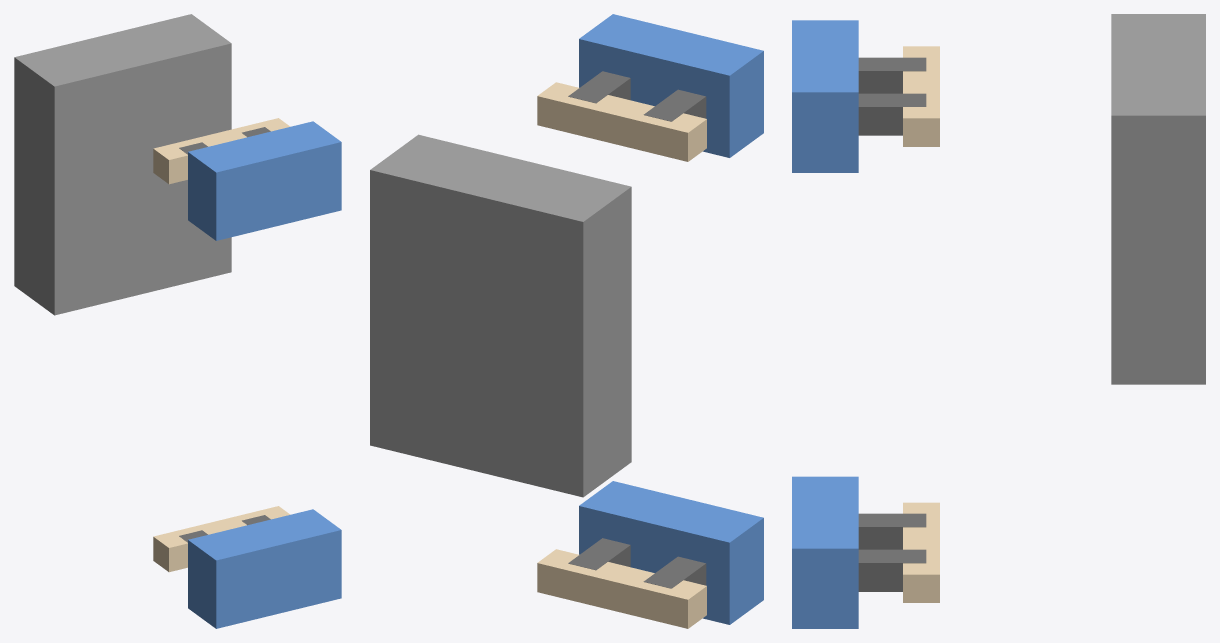
Rendered from sky130_fd_sc_hd__fill_2.gds.gltf.
3 renders of one model, left to right at view 1: azimuth 30°, elevation 25°; view 2: azimuth 150°, elevation 25°; view 3: azimuth 270°, elevation 25°, orthographic. The views are drawn at different scales.
Parts seen in each view (by area): view 1: sky130_fd_sc_hd__fill_2_nwell, sky130_fd_sc_hd__fill_2_met1, sky130_fd_sc_hd__fill_2_li1, sky130_fd_sc_hd__fill_2_mcon; view 2: sky130_fd_sc_hd__fill_2_nwell, sky130_fd_sc_hd__fill_2_met1, sky130_fd_sc_hd__fill_2_li1, sky130_fd_sc_hd__fill_2_mcon; view 3: sky130_fd_sc_hd__fill_2_nwell, sky130_fd_sc_hd__fill_2_met1, sky130_fd_sc_hd__fill_2_mcon, sky130_fd_sc_hd__fill_2_li1.
Boxes of the visible parts, bbox=[...] form: sky130_fd_sc_hd__fill_2_nwell: bbox=[14, 14, 231, 315]; sky130_fd_sc_hd__fill_2_met1: bbox=[188, 121, 341, 628]; sky130_fd_sc_hd__fill_2_li1: bbox=[153, 118, 290, 572]; sky130_fd_sc_hd__fill_2_mcon: bbox=[179, 127, 270, 542]; sky130_fd_sc_hd__fill_2_nwell: bbox=[370, 134, 631, 497]; sky130_fd_sc_hd__fill_2_met1: bbox=[579, 14, 763, 624]; sky130_fd_sc_hd__fill_2_li1: bbox=[537, 82, 706, 628]; sky130_fd_sc_hd__fill_2_mcon: bbox=[568, 71, 706, 588]; sky130_fd_sc_hd__fill_2_nwell: bbox=[1111, 14, 1205, 384]; sky130_fd_sc_hd__fill_2_met1: bbox=[792, 20, 858, 628]; sky130_fd_sc_hd__fill_2_mcon: bbox=[858, 57, 926, 591]; sky130_fd_sc_hd__fill_2_li1: bbox=[903, 46, 939, 602].
Bounding box in the file's own units: 1.3 × 3.2 × 2.24.
